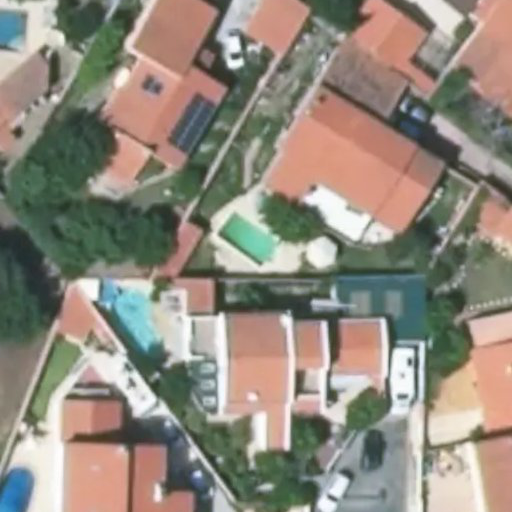pool: (102, 282, 164, 359), (221, 214, 278, 264), (1, 468, 32, 512), (1, 11, 28, 52)
